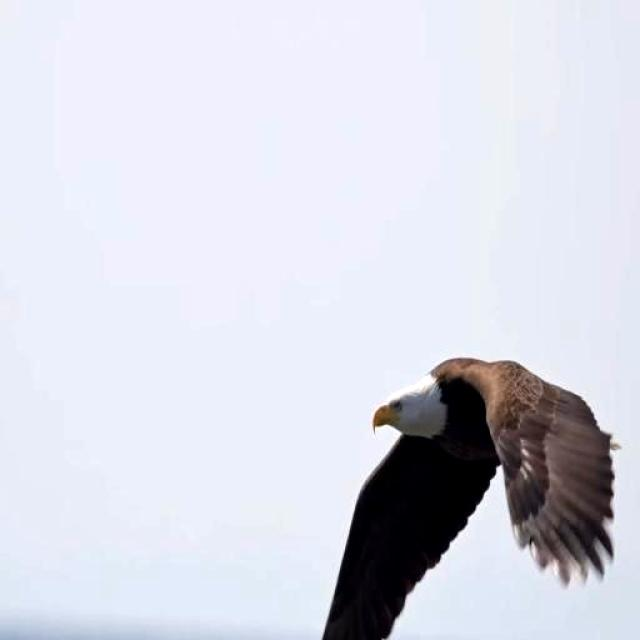airplane: (299, 330, 625, 640)
